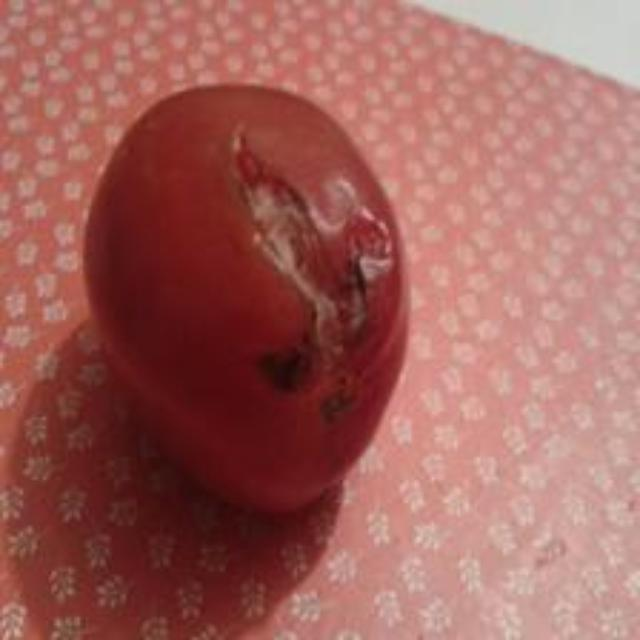defect: (78, 79, 429, 517)
